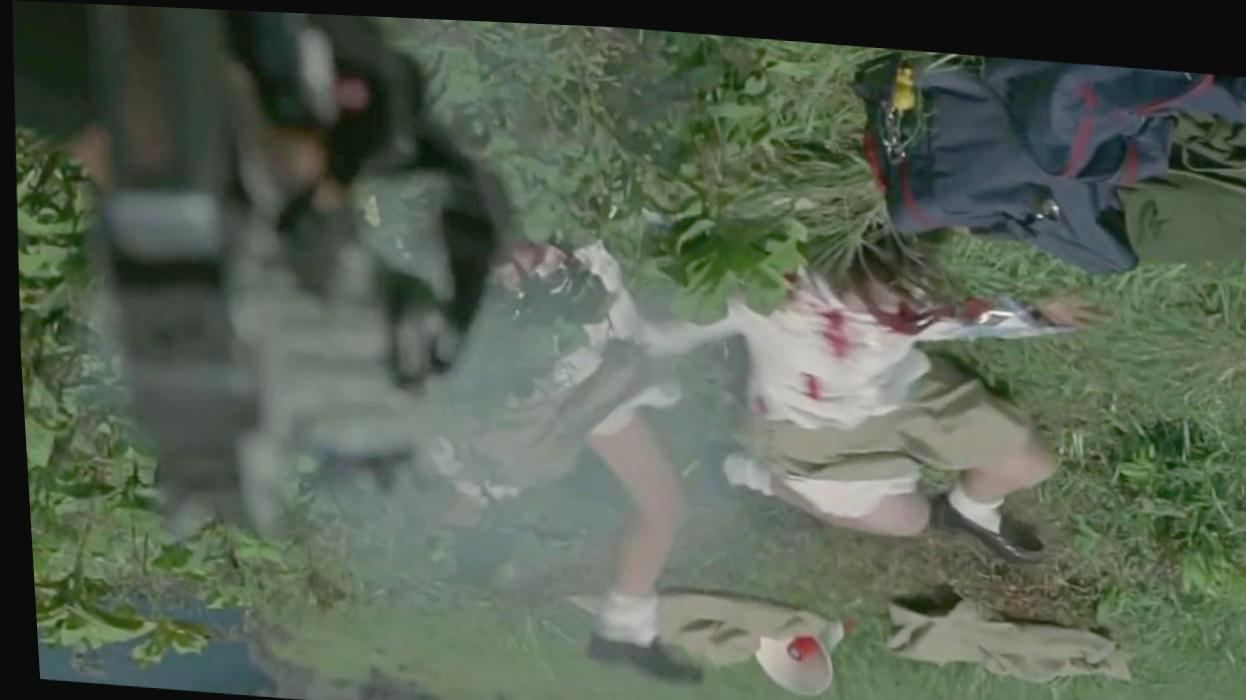Fire: (804, 268, 936, 350), (801, 366, 818, 394)
